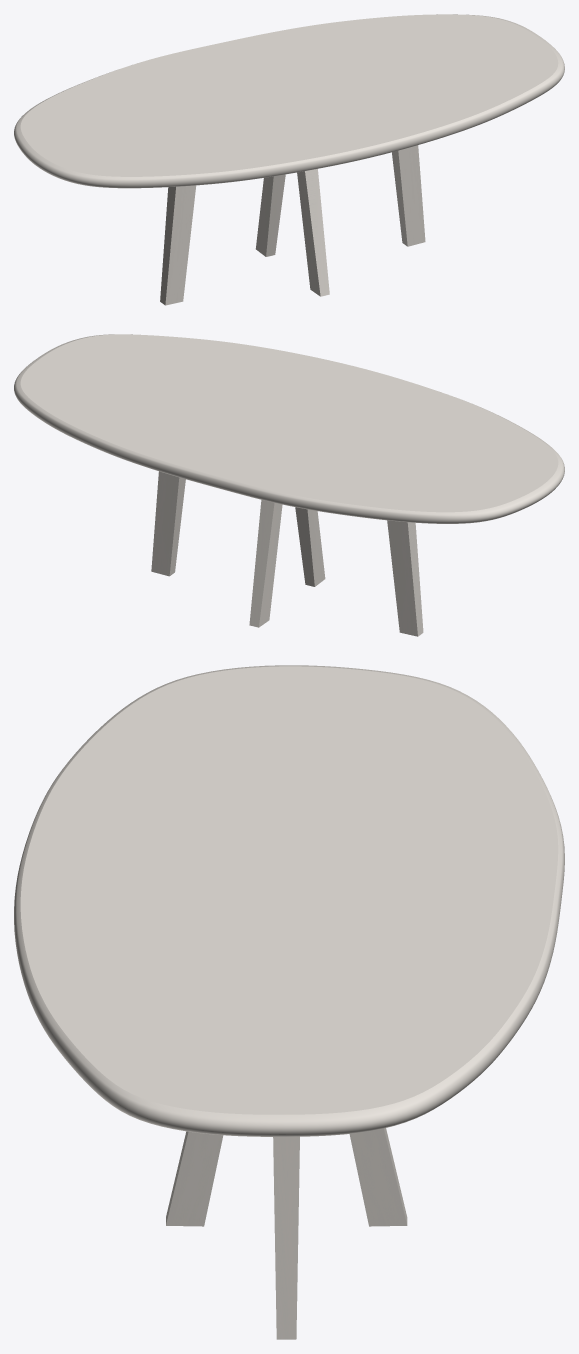
Rendered from pearlwhite_danish_round_searwalnut.glb.
3 views of the same model, one above another, from view 1: azimuth 30°, elevation 25°; view 2: azimuth 150°, elevation 25°; view 3: azimuth 270°, elevation 25° (orthographic). The views are drawn at different scales.
Visible parts, largest first — view 1: round_danish, searwalnut; view 2: round_danish, searwalnut; view 3: round_danish, searwalnut.
Part boxes in pixels (x1,y1,x2,y2): round_danish: [14, 14, 564, 188]; searwalnut: [160, 145, 425, 305]; round_danish: [14, 334, 564, 523]; searwalnut: [151, 471, 423, 636]; round_danish: [14, 665, 564, 1136]; searwalnut: [166, 1128, 407, 1339].
Bounding box in the file's own units: 7.5 × 2.5 × 3.8.
1 material, 1 textured.
